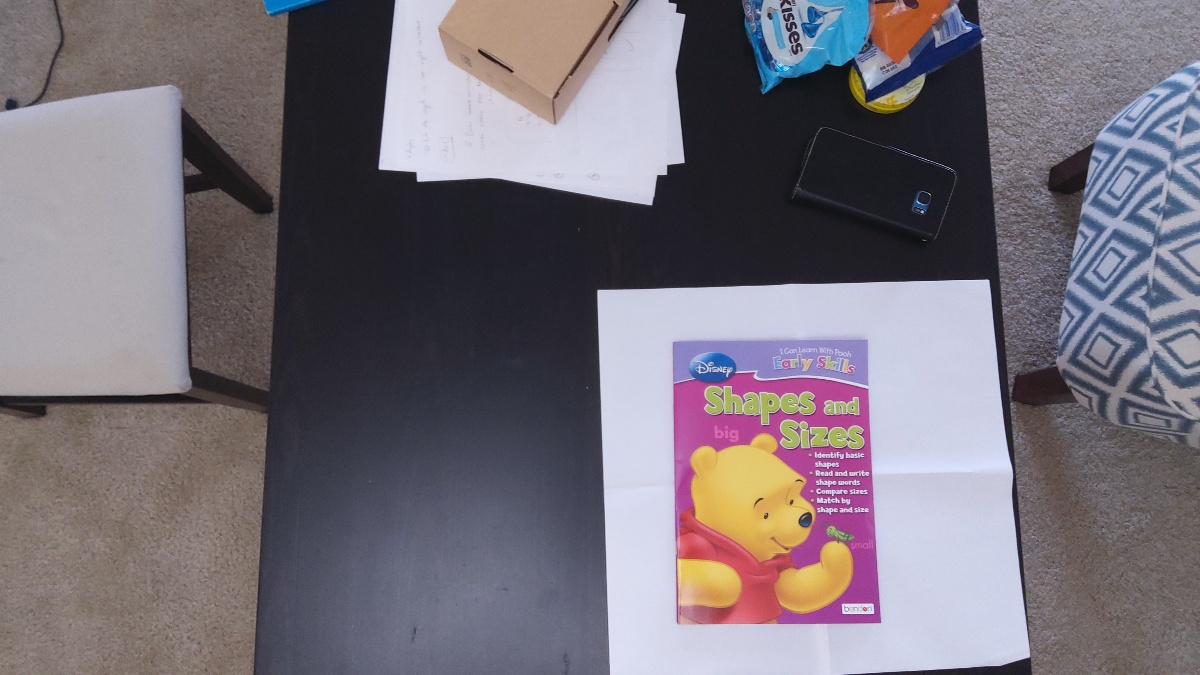book: (671, 339, 880, 623)
